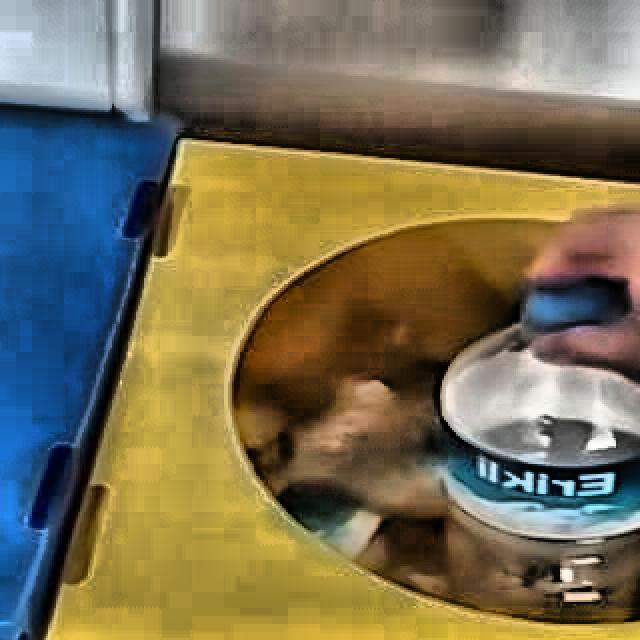plastic: (440, 279, 640, 624)
